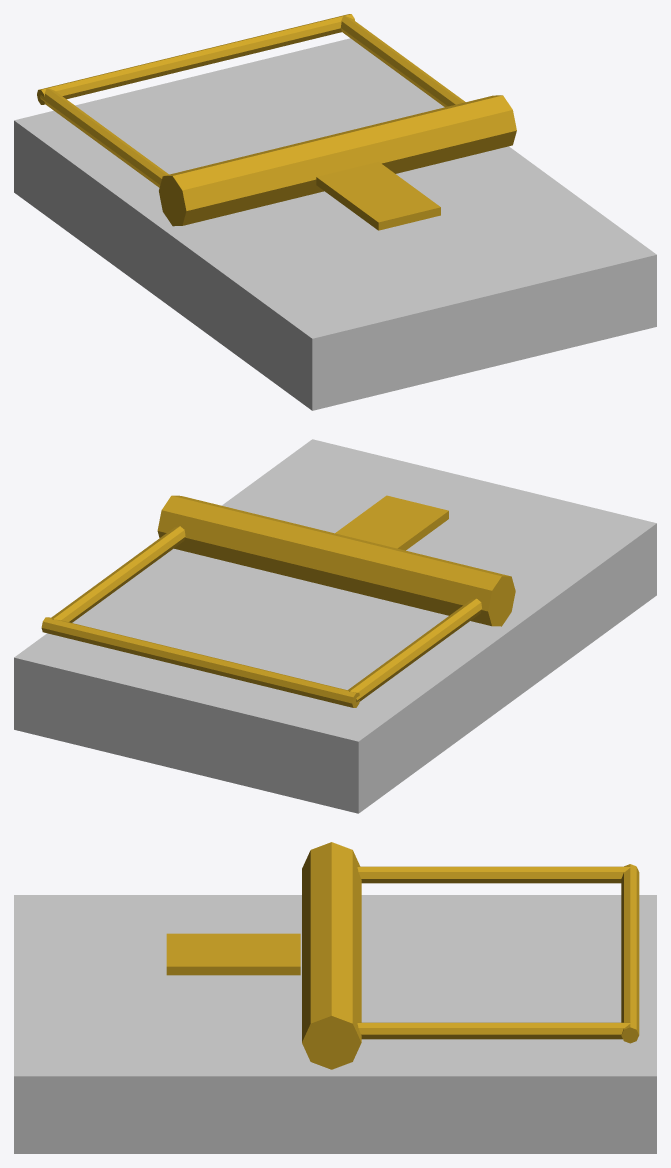
The model's file is trap.dae.
3 renders of one model, top to bottom at view 1: azimuth 30°, elevation 25°; view 2: azimuth 150°, elevation 25°; view 3: azimuth 270°, elevation 25°, orthographic. The views are drawn at different scales.
Parts seen in each view (by area): view 1: Cube, Cylinder, Cylinder_003, Cube_001, Cylinder_001, Cylinder_002; view 2: Cube, Cylinder, Cylinder_003, Cube_001, Cylinder_001, Cylinder_002; view 3: Cube, Cylinder, Cube_001, Cylinder_002, Cylinder_001, Cylinder_003.
Boxes of the visible parts, x1=… form: Cube: x1=14, y1=38, x2=656, y2=410; Cylinder: x1=159, y1=95, x2=516, y2=226; Cylinder_003: x1=37, y1=14, x2=354, y2=104; Cube_001: x1=316, y1=162, x2=440, y2=230; Cylinder_001: x1=40, y1=88, x2=168, y2=187; Cylinder_002: x1=341, y1=15, x2=465, y2=107; Cube: x1=14, y1=439, x2=656, y2=813; Cylinder: x1=157, y1=495, x2=515, y2=626; Cylinder_003: x1=41, y1=617, x2=359, y2=707; Cube_001: x1=335, y1=495, x2=448, y2=550; Cylinder_001: x1=348, y1=598, x2=481, y2=701; Cylinder_002: x1=51, y1=526, x2=185, y2=622; Cube: x1=14, y1=895, x2=656, y2=1153; Cylinder: x1=302, y1=842, x2=361, y2=1069; Cube_001: x1=166, y1=933, x2=300, y2=975; Cylinder_002: x1=357, y1=1022, x2=630, y2=1039; Cylinder_001: x1=357, y1=866, x2=630, y2=883; Cylinder_003: x1=621, y1=864, x2=639, y2=1043.
Bounding box in the file's own units: 1 × 1.5 × 0.347.
